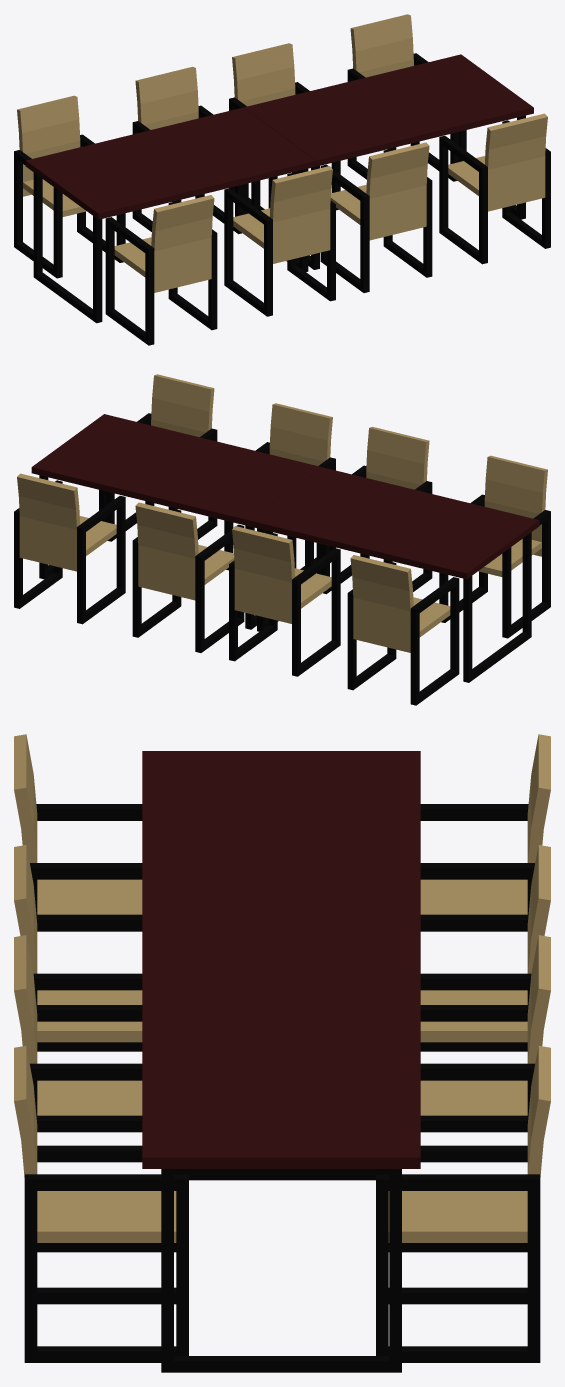
3 renders of one model, top to bottom at view 1: azimuth 30°, elevation 25°; view 2: azimuth 150°, elevation 25°; view 3: azimuth 270°, elevation 25°, orthographic. The views are drawn at different scales.
Parts seen in each view (by area): view 1: CT2-1; view 2: CT2-1; view 3: CT2-1.
Boxes of the visible parts, <box> form: CT2-1: <box>14,14,550,345</box>; CT2-1: <box>14,374,550,705</box>; CT2-1: <box>14,734,550,1372</box>.
Size of the model in its own units: 38.02 by 11.28 by 21.22.
